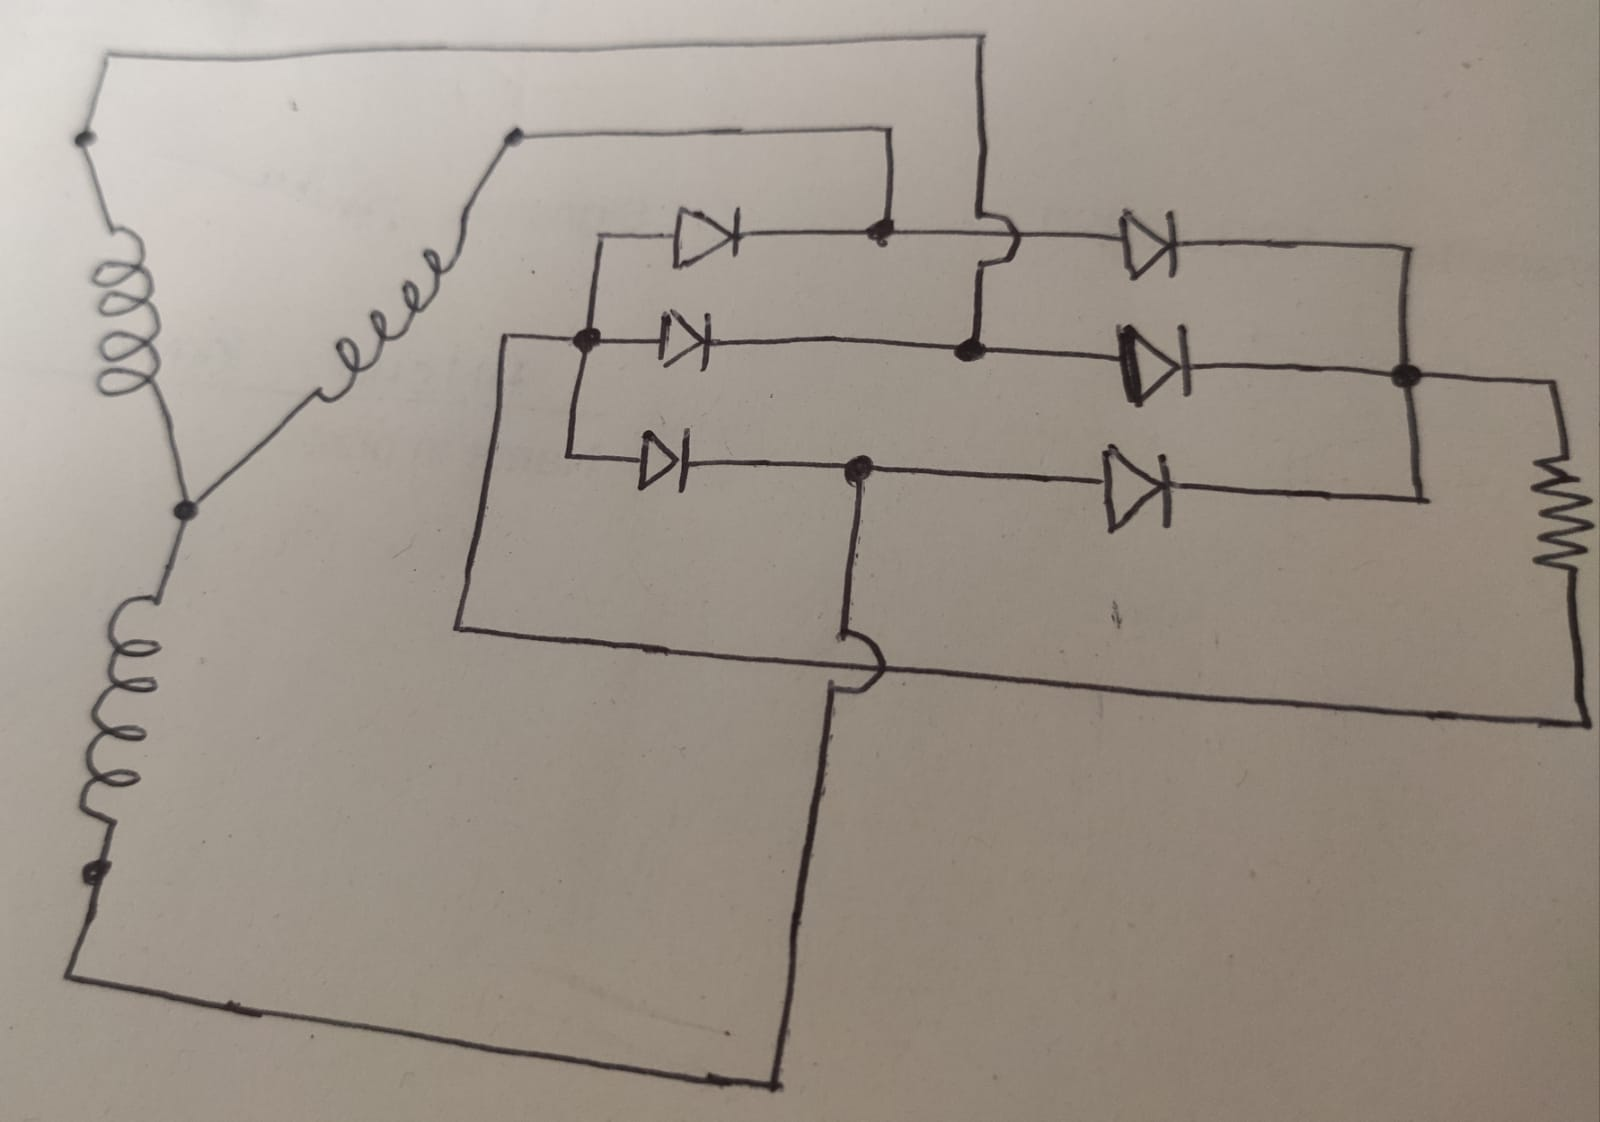crossover: (824, 626, 888, 697), (969, 204, 1025, 270)
diode: (1094, 445, 1177, 531), (1115, 325, 1196, 406), (1115, 204, 1184, 286), (667, 204, 744, 270), (631, 425, 700, 490), (655, 309, 714, 372)
inductor: (316, 233, 464, 402), (77, 594, 163, 825), (89, 225, 162, 398)
junction: (1381, 353, 1432, 396), (838, 449, 881, 490), (75, 855, 119, 893), (863, 213, 905, 250), (164, 489, 205, 526), (947, 332, 990, 367), (755, 1066, 791, 1105), (565, 326, 612, 354), (502, 115, 533, 156), (68, 125, 105, 156), (1402, 484, 1437, 514), (1392, 236, 1424, 267), (1567, 707, 1598, 740), (55, 958, 83, 993), (443, 614, 474, 643), (1536, 370, 1566, 399), (964, 24, 995, 53), (96, 41, 125, 71), (872, 117, 900, 143), (557, 442, 584, 469), (590, 225, 616, 252), (494, 326, 518, 348)
resistor: (1532, 451, 1595, 573)
